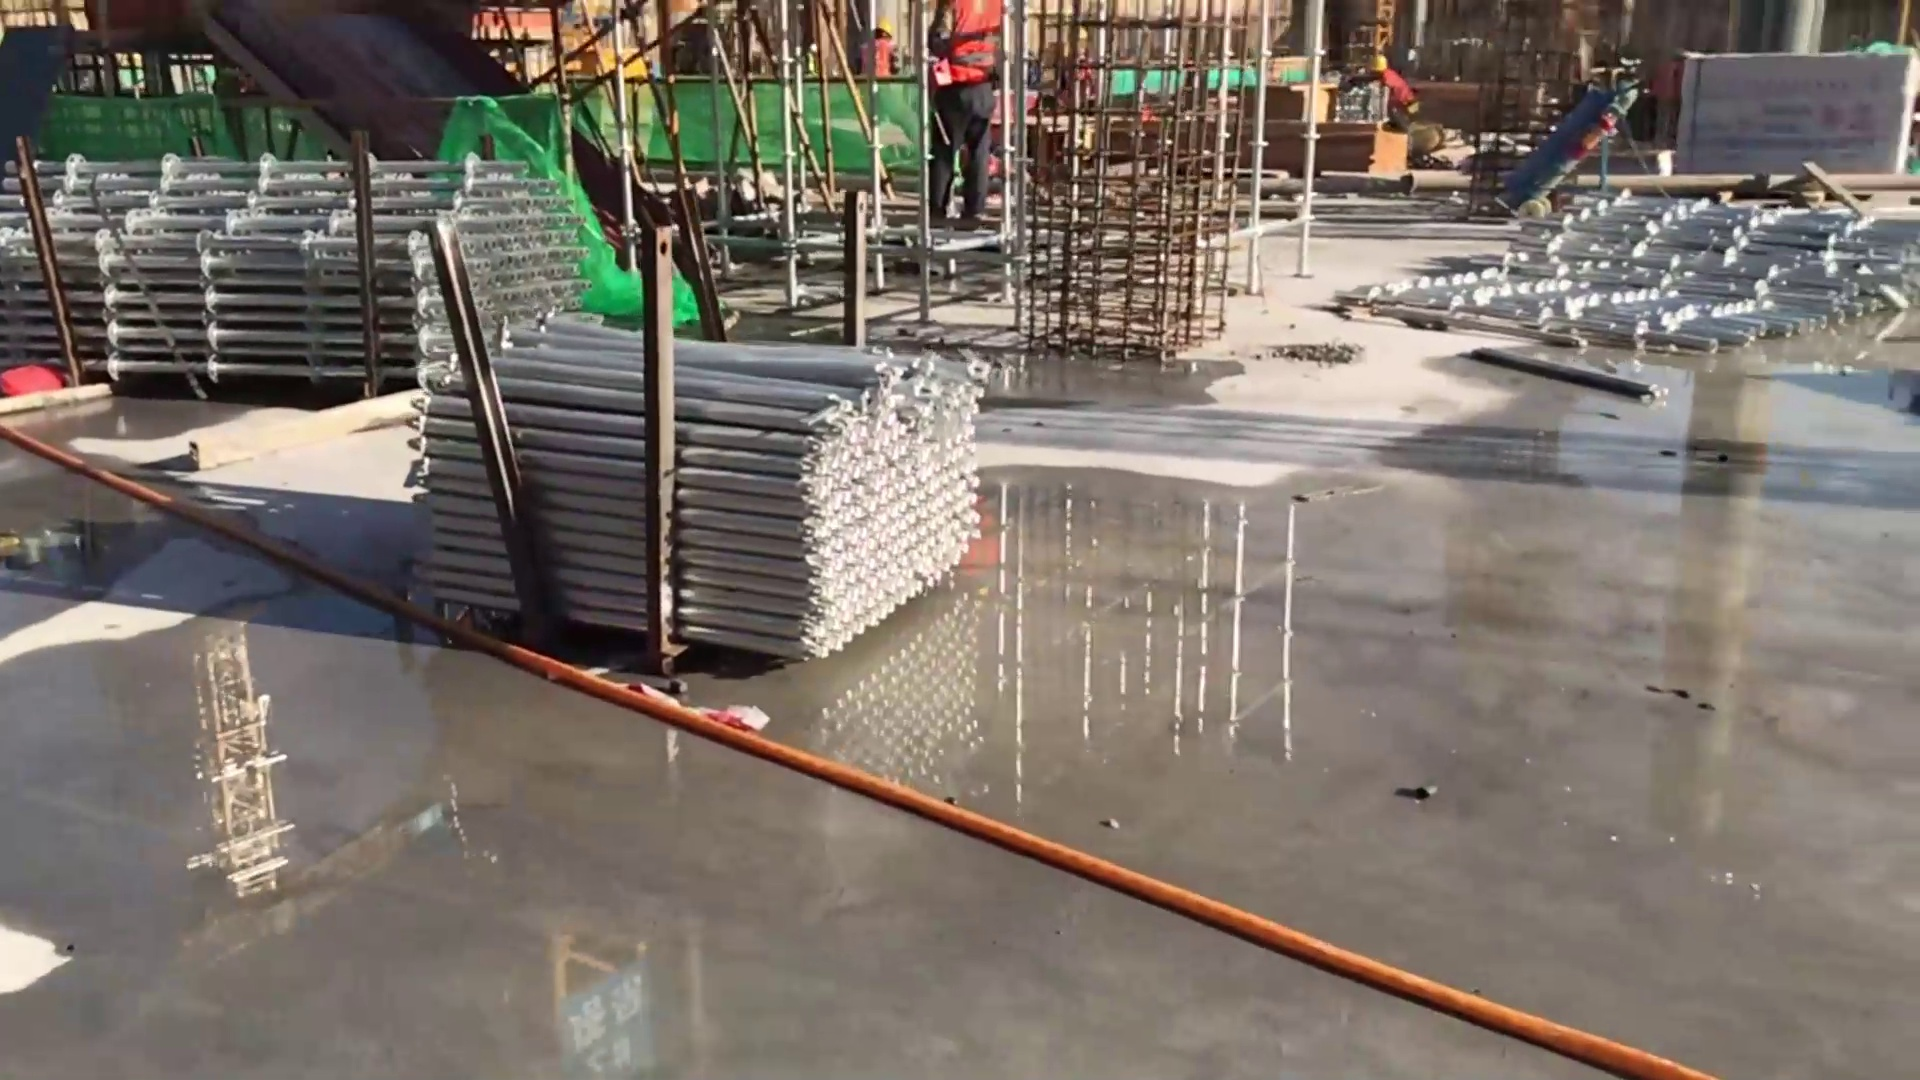person: (926, 1, 997, 223)
scaffold: (415, 326, 988, 660), (5, 145, 593, 388), (1409, 172, 1919, 345)
vest: (933, 4, 1001, 90)
